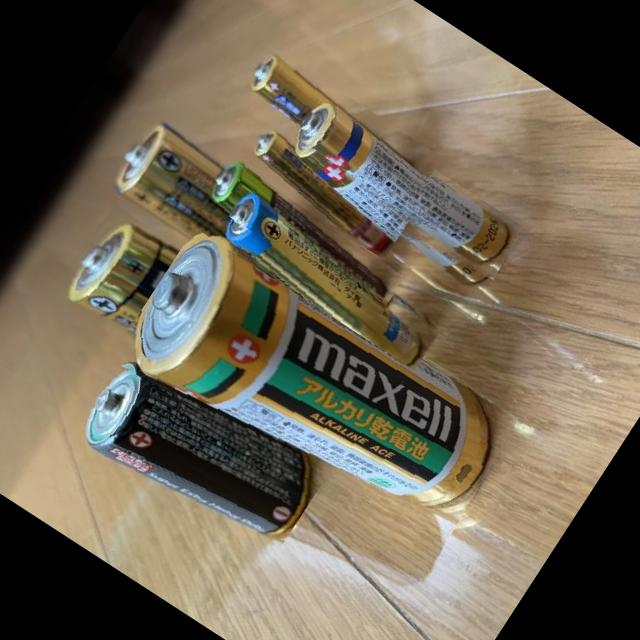Hazard: (110, 213, 524, 566), (55, 320, 338, 570), (266, 90, 527, 302), (203, 174, 452, 370), (232, 43, 444, 214), (198, 148, 412, 314), (90, 98, 280, 273), (47, 195, 215, 358), (234, 113, 416, 259)
